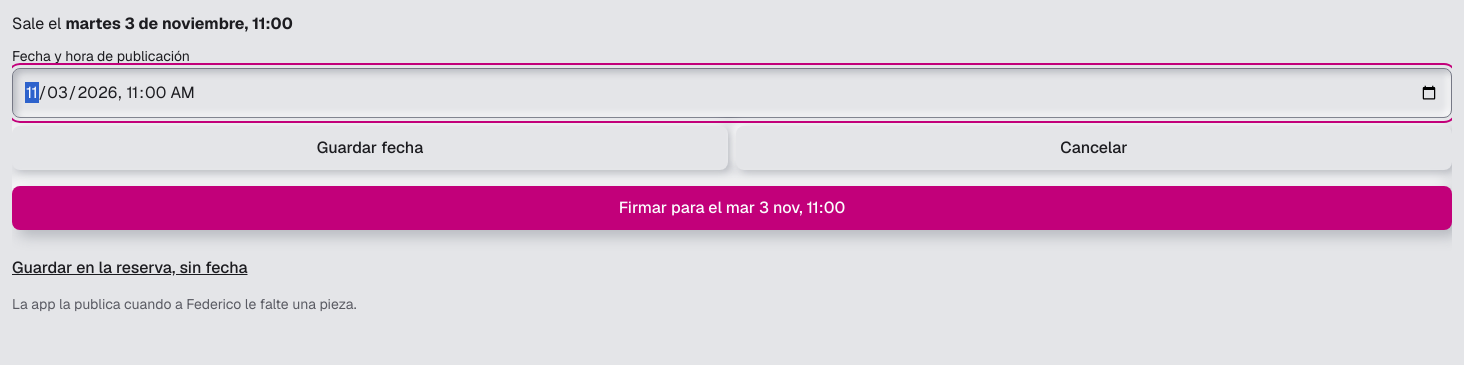
the signing view reached to change the date › still needs the new date saved before signing, and never signs by itself
The width and height of the screenshot is (1464, 365).
Replace the text in the field labelled "Fecha y hora de publicación" with "2026-11-04T15:00" at (732,93), box [12, 68, 1452, 118]
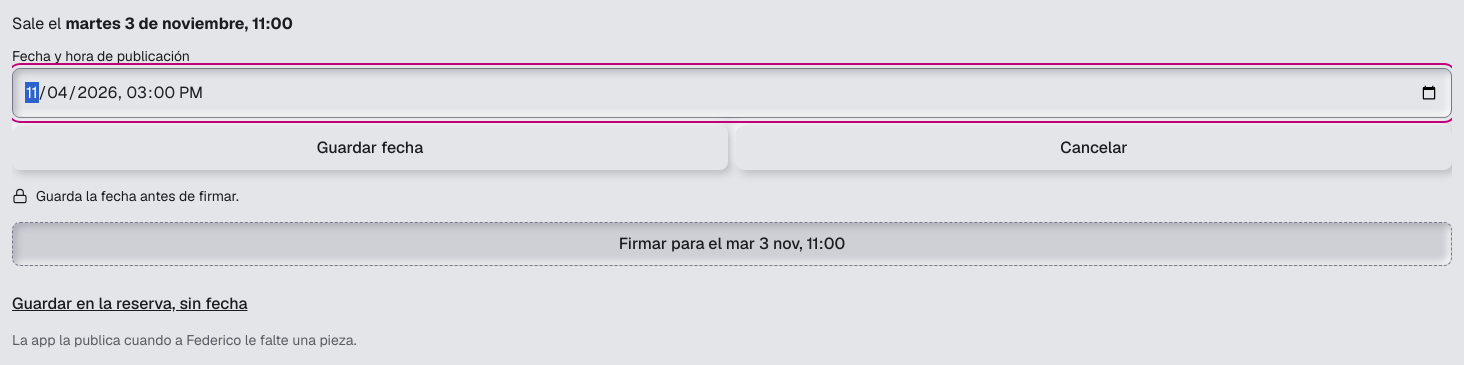
Result: the button "Firmar para el mar 3 nov, 11:00" is disabled at [12, 222, 1452, 266]
Result: the text "Guarda la fecha antes de firmar." is shown at [12, 187, 239, 205]
